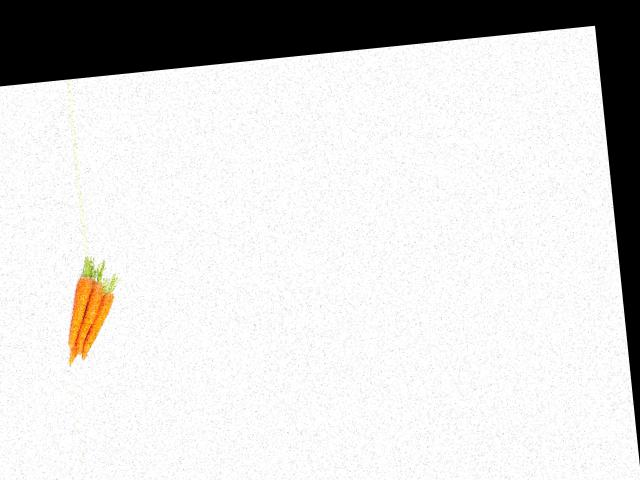carrot: (58, 269, 98, 348)
